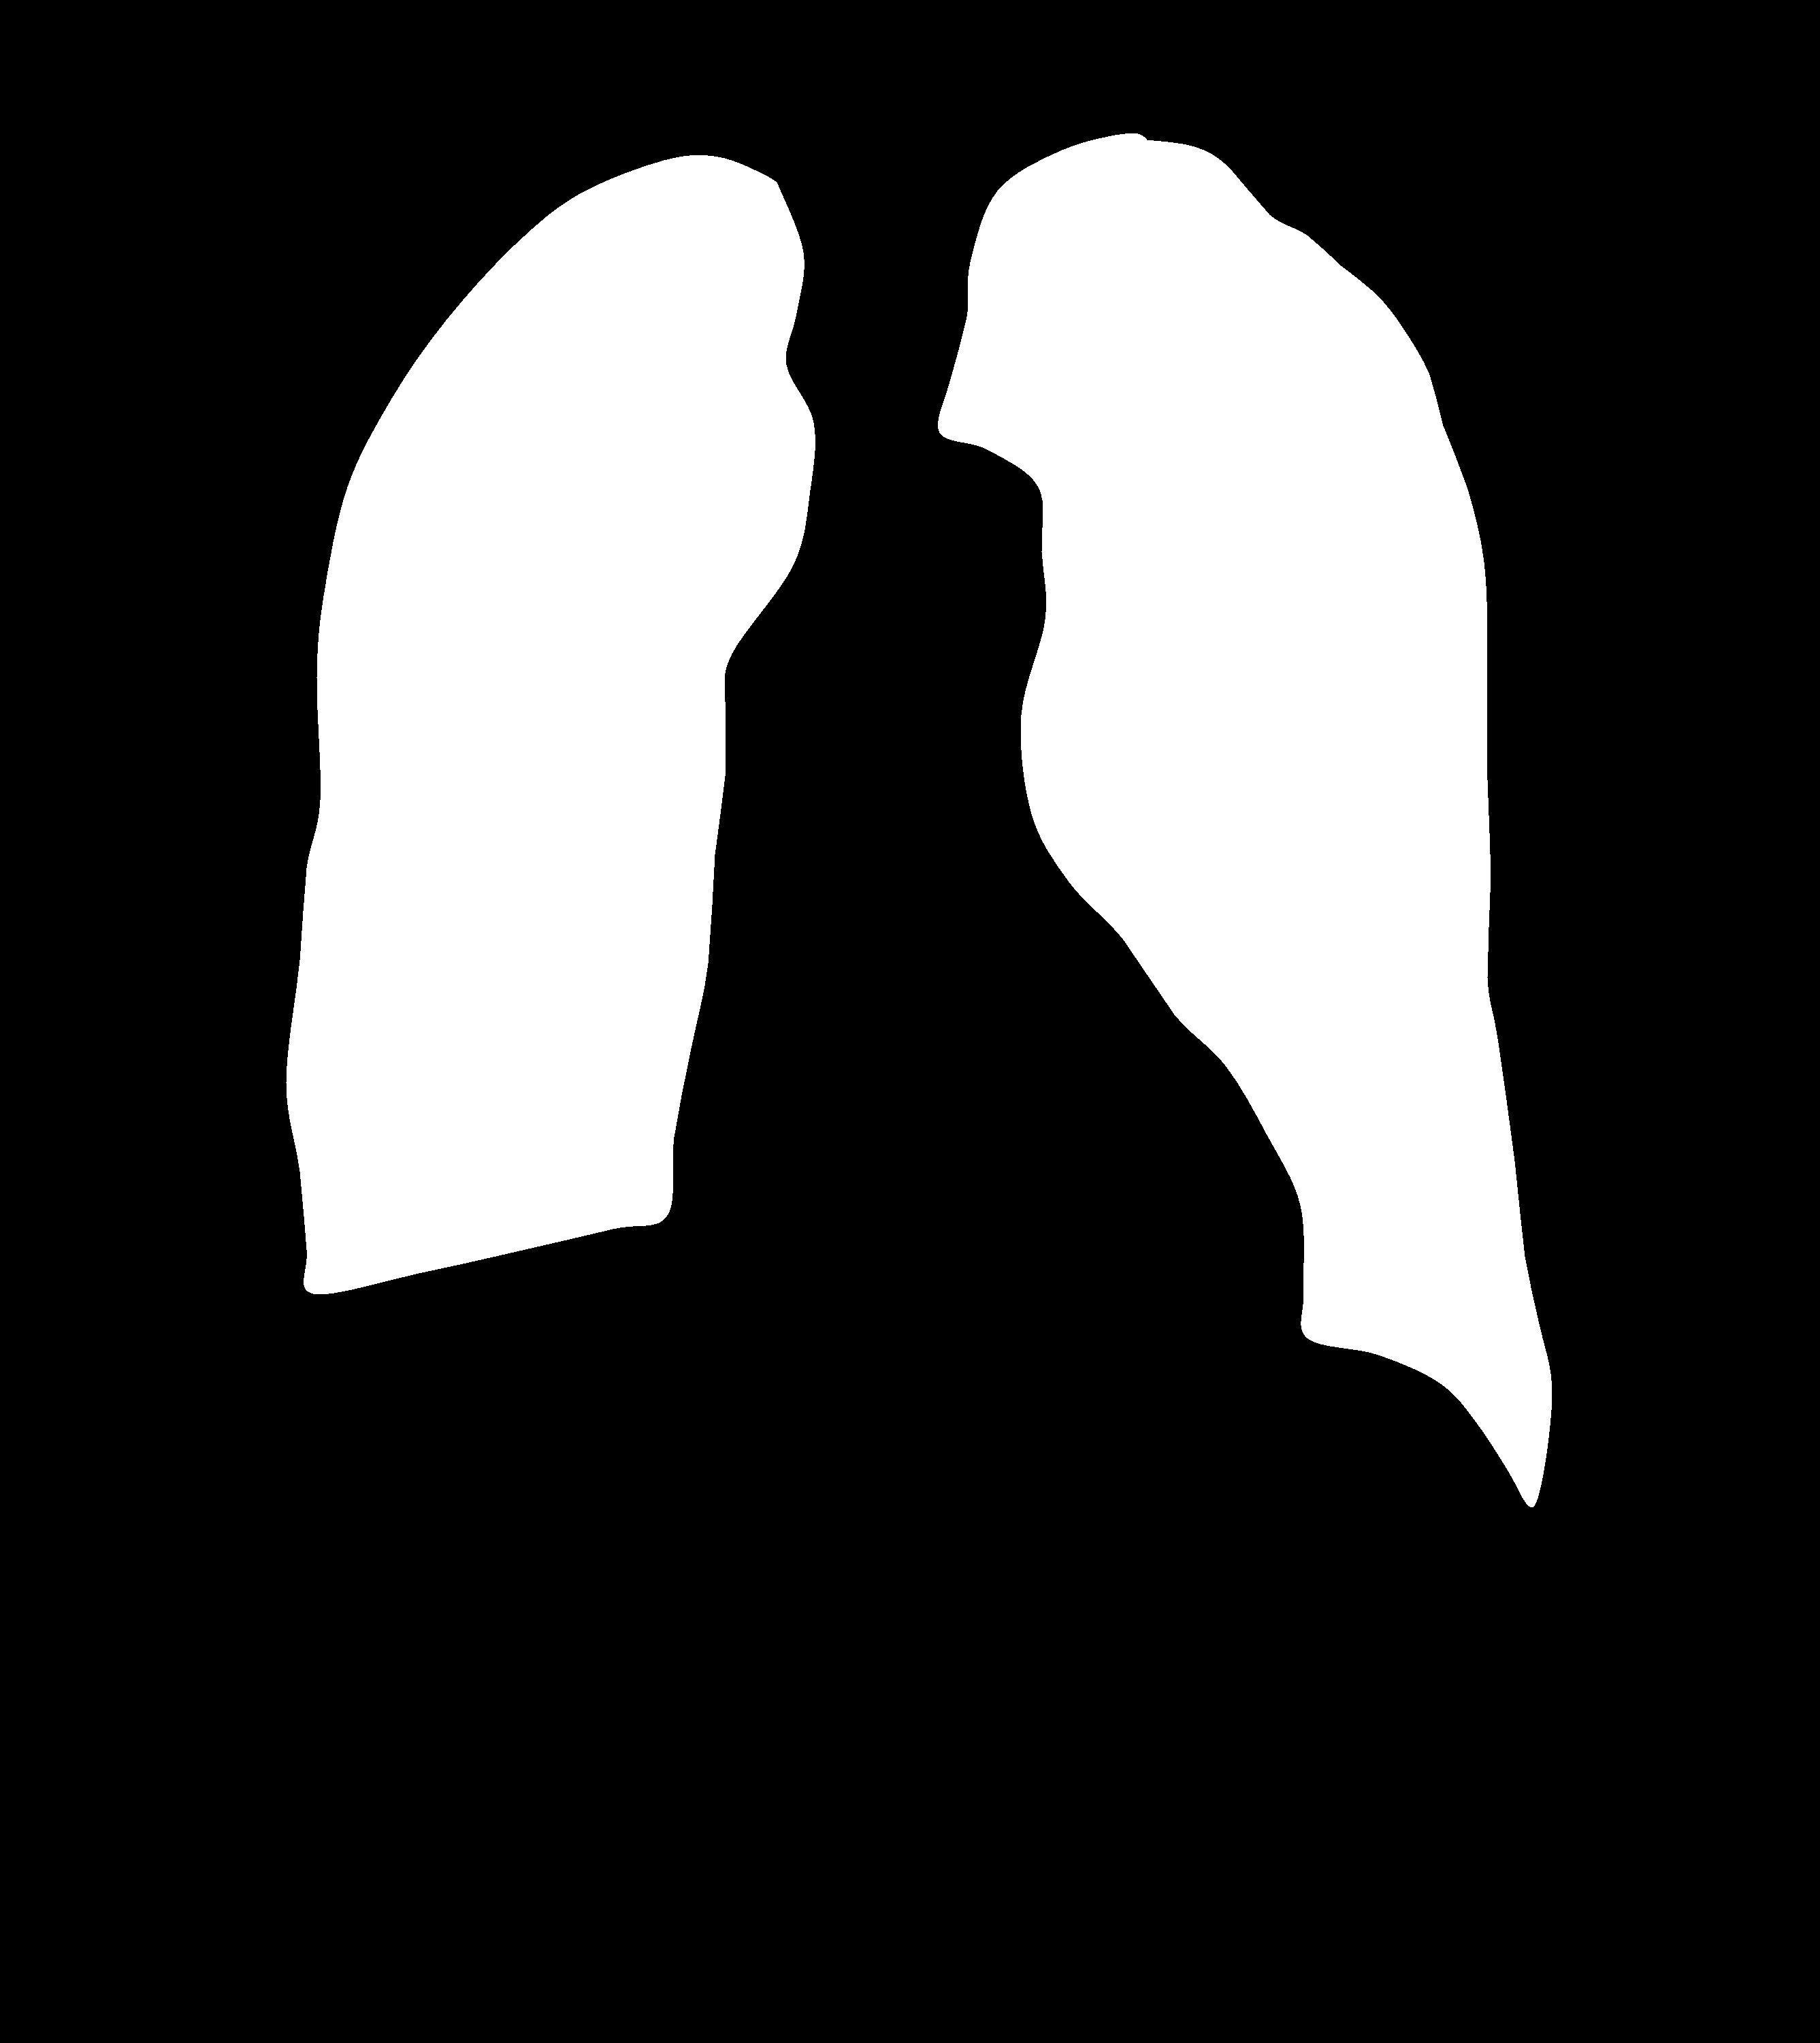heart: (669, 942, 1337, 1395)
left_lung: (283, 155, 815, 1317)
right_lung: (938, 134, 1555, 1507)
